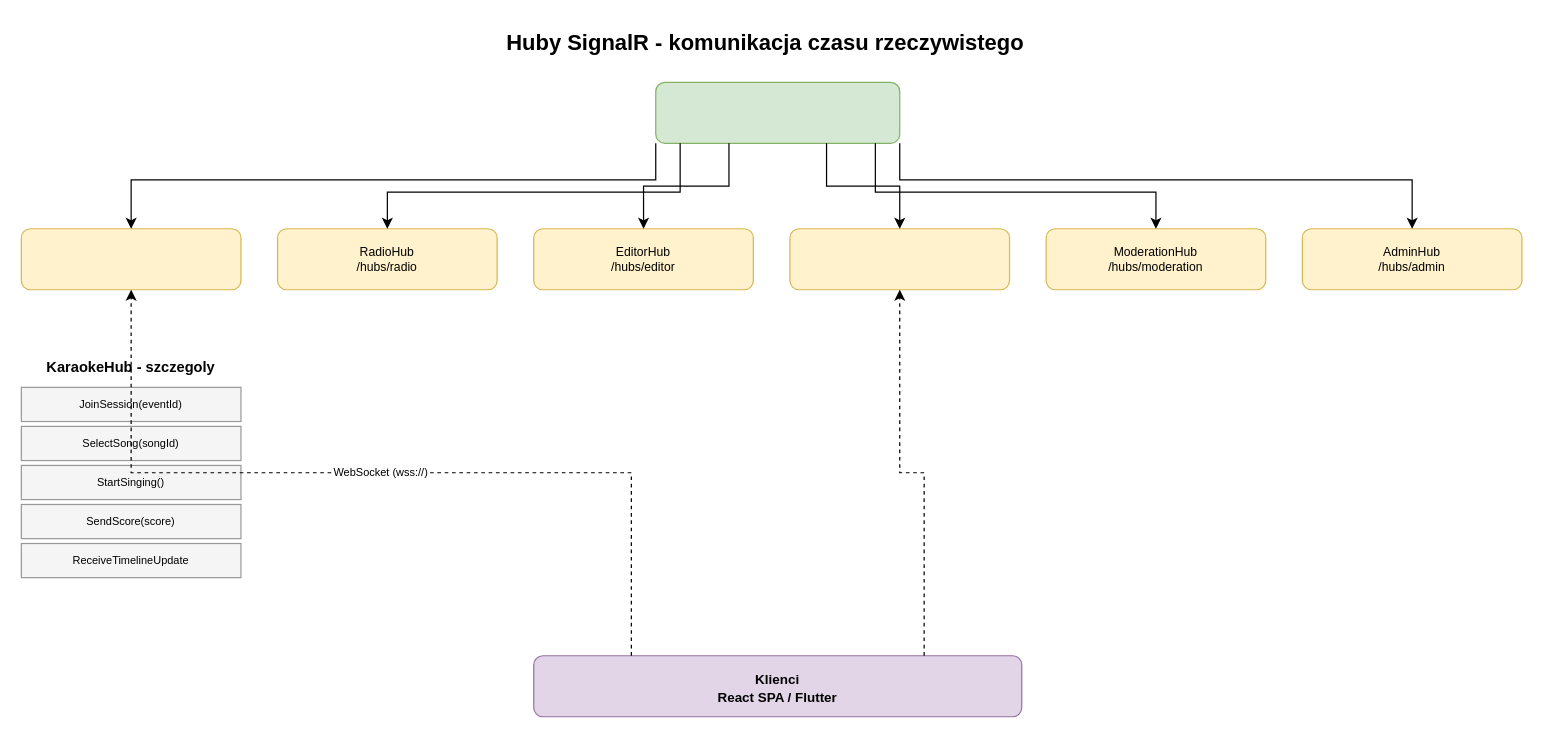
The diagram is 1543 pixels wide and 738 high, and some of its shapes have lost their labels. The centre of each missing label's shape, as x and y in pixels:
"AudioVerse.API Port: 5000" belongs at point (777, 112).
"KaraokeHub /hubs/karaoke" belongs at point (130, 259).
"NotificationHub /hubs/notifications" belongs at point (899, 259).
